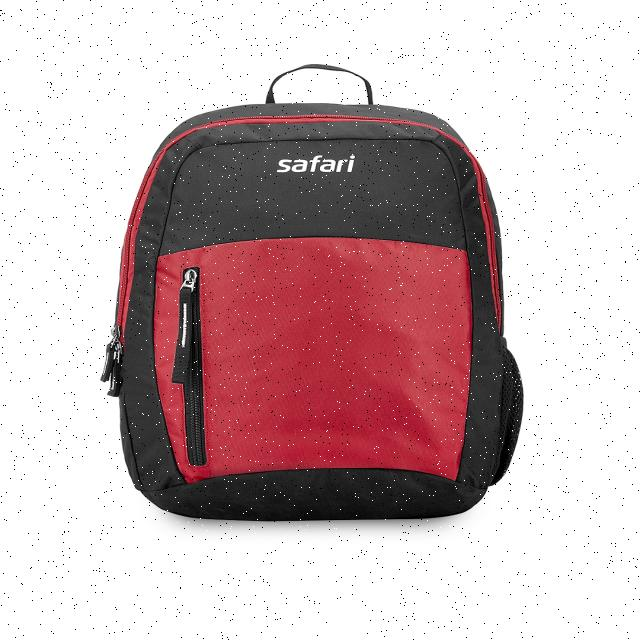backpack: (101, 63, 524, 521)
